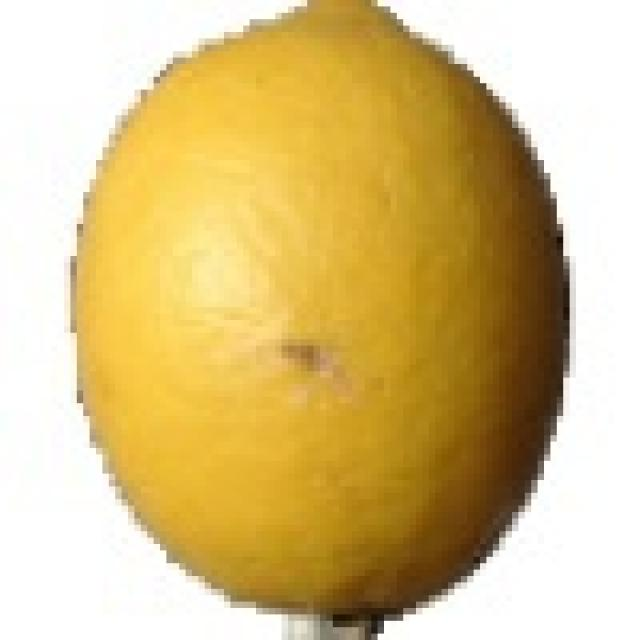lemon: (44, 4, 581, 629)
